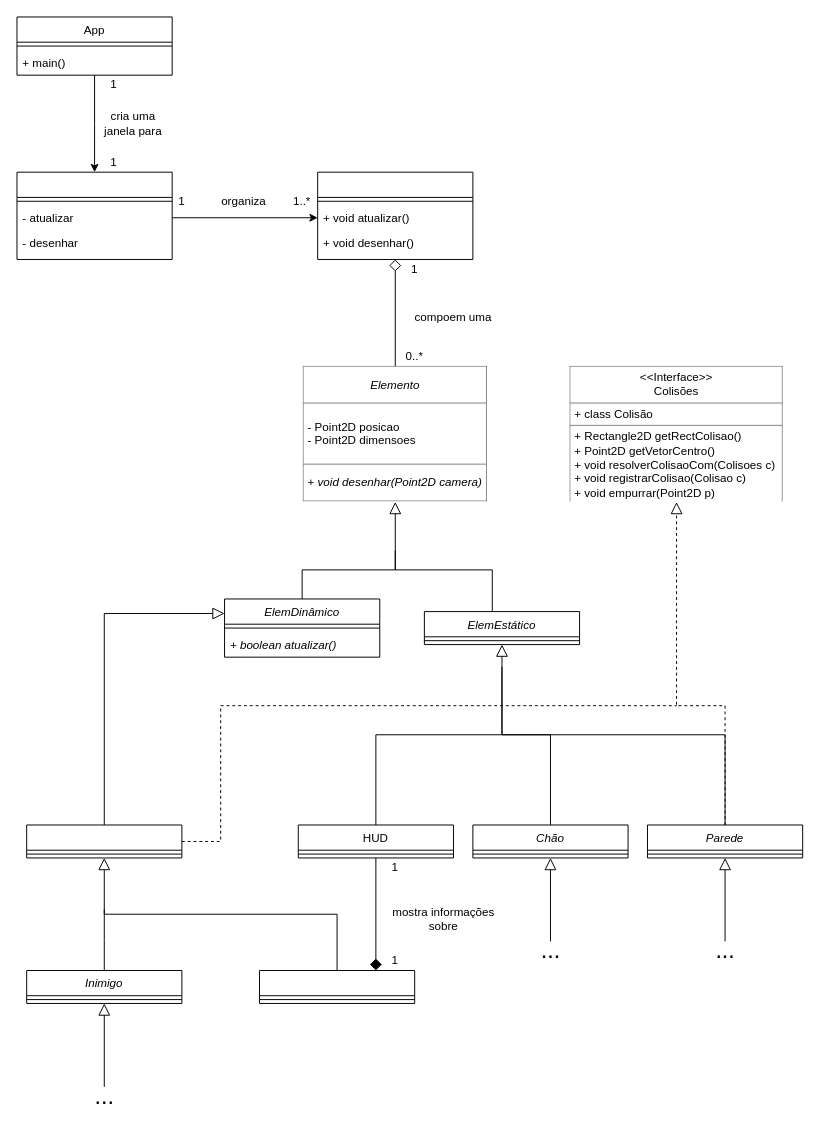
This 820x1133 diagram has some shape labels left out. The box of each missing label's shape, as (x1, y1, x2, y2) in pixels:
Ator: (26, 824, 182, 858)
Controlador: (16, 171, 172, 259)
Jogador: (259, 970, 415, 1003)
Sala: (317, 171, 473, 259)
